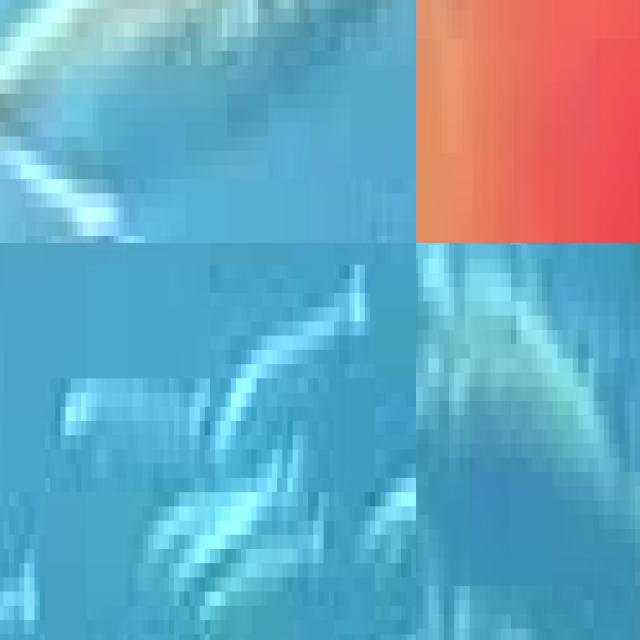fish: (0, 0, 416, 243), (416, 0, 640, 243)
